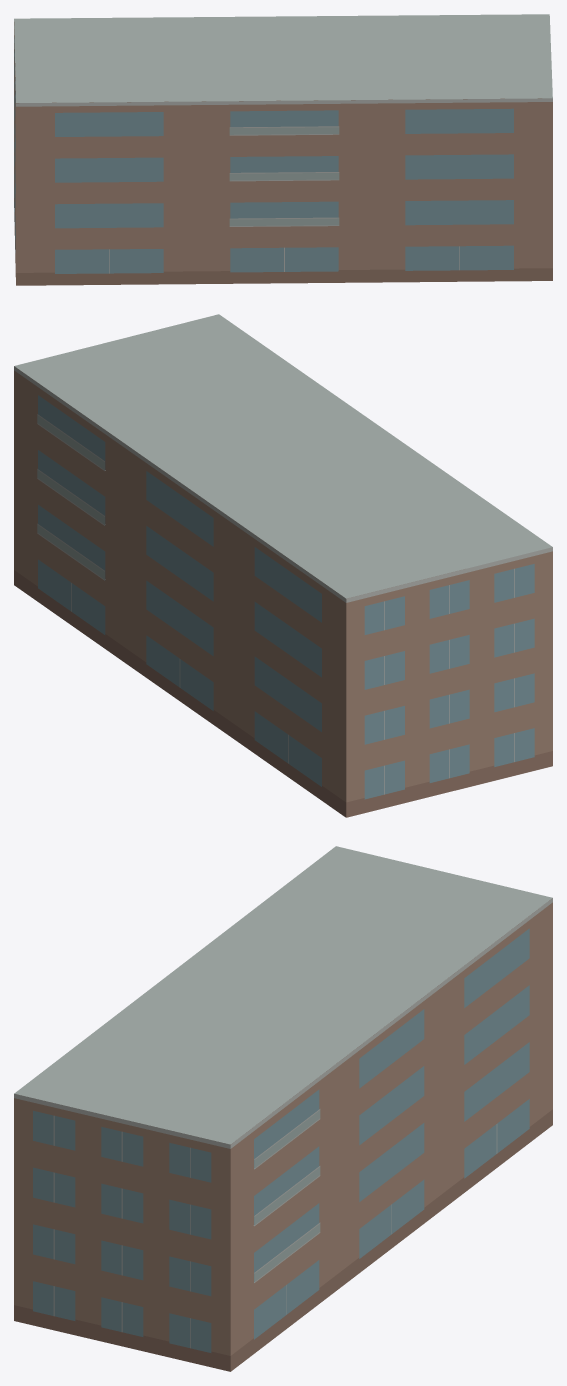
File: survey-upis-32870617.glb
3 views of the same model, one above another, from view 1: azimuth 30°, elevation 25°; view 2: azimuth 150°, elevation 25°; view 3: azimuth 270°, elevation 25° (orthographic). The views are drawn at different scales.
Parts seen in each view (by area): view 1: survey-upis-32870617.tmp; view 2: survey-upis-32870617.tmp; view 3: survey-upis-32870617.tmp.
Boxes of the visible parts, bbox=[...] form: survey-upis-32870617.tmp: bbox=[14, 14, 552, 285]; survey-upis-32870617.tmp: bbox=[14, 314, 552, 817]; survey-upis-32870617.tmp: bbox=[14, 846, 552, 1371].
Size of the model in its own units: 34.93 by 12.4 by 26.65.
